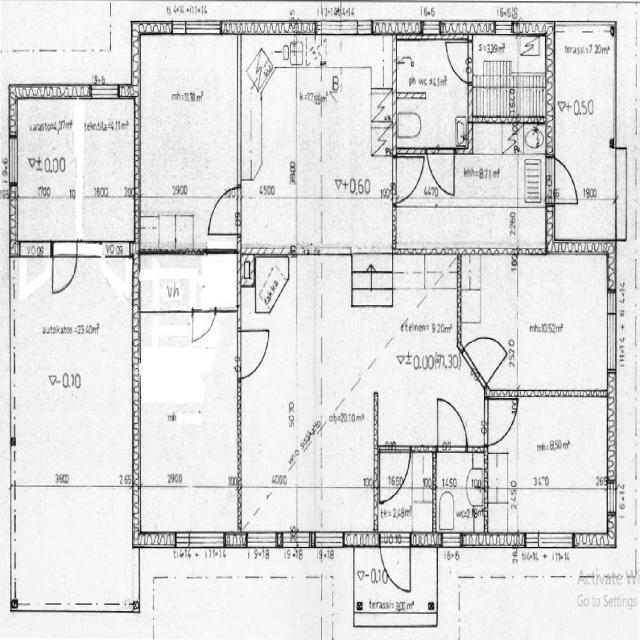door: (432, 393, 470, 453), (378, 532, 413, 594), (235, 327, 271, 382), (377, 446, 412, 502), (484, 394, 519, 449), (206, 187, 242, 240), (49, 242, 80, 300), (394, 150, 425, 202), (550, 154, 580, 206), (426, 145, 456, 197), (444, 37, 472, 84), (191, 303, 218, 347)
window: (230, 33, 247, 182), (7, 478, 20, 604), (182, 527, 227, 557), (315, 17, 374, 39), (609, 33, 621, 141), (604, 288, 618, 377), (244, 528, 280, 558), (176, 17, 222, 39), (6, 130, 21, 190), (536, 530, 574, 550), (88, 81, 121, 103), (6, 438, 20, 489), (313, 530, 346, 551), (609, 144, 620, 204), (439, 530, 464, 552), (420, 18, 442, 40), (606, 476, 617, 518), (492, 18, 514, 35)
zone: (8, 255, 137, 608), (239, 253, 376, 536), (238, 32, 390, 252), (137, 313, 239, 532), (140, 31, 240, 245), (485, 392, 612, 534), (376, 251, 460, 448), (317, 47, 392, 252), (552, 27, 616, 240), (517, 252, 611, 395), (240, 50, 300, 254), (15, 93, 79, 241), (81, 94, 137, 244), (395, 36, 469, 148), (461, 252, 517, 389), (469, 32, 548, 121), (376, 451, 434, 536), (434, 448, 487, 541), (140, 251, 200, 313)
